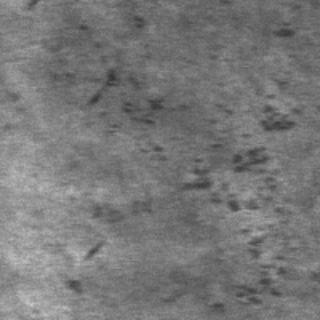rolled pit: (184, 59, 292, 308), (77, 58, 166, 236)
